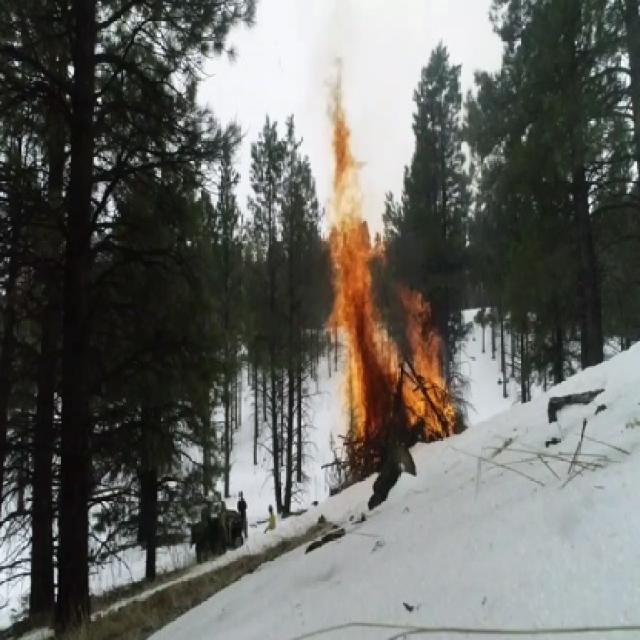Fire: (320, 54, 460, 472)
